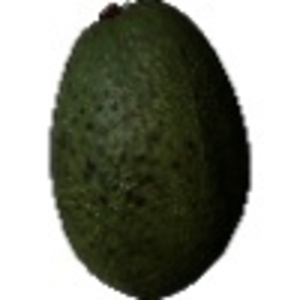abacate: (49, 1, 251, 298)
